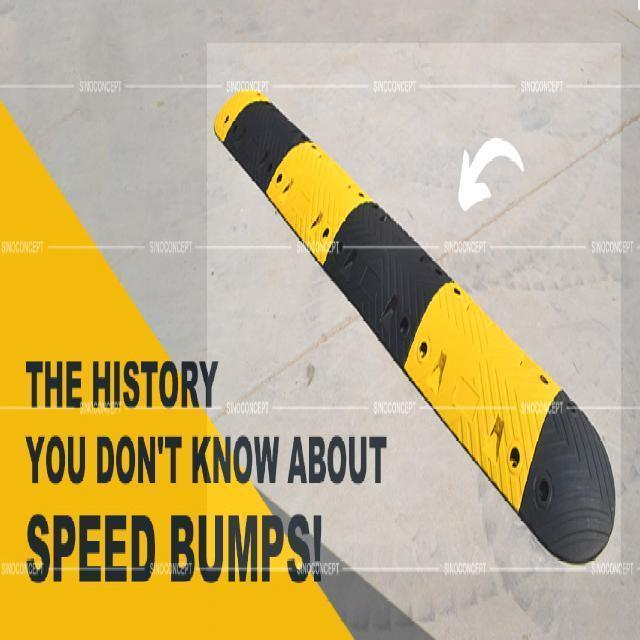speedbreaker: (218, 100, 612, 557)
